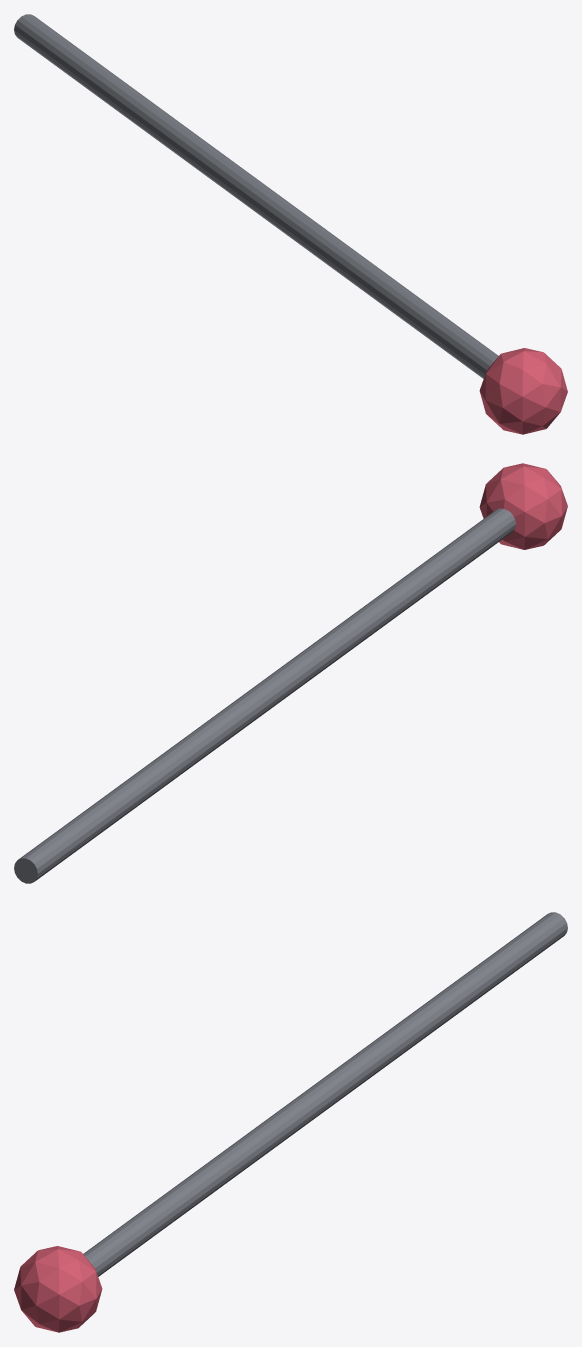
Rendered from antenna_v01.glb.
3 views of the same model, one above another, from view 1: azimuth 30°, elevation 25°; view 2: azimuth 150°, elevation 25°; view 3: azimuth 330°, elevation 25° (orthographic).
Parts seen in each view (by area): view 1: cylinder_0, sphere_1; view 2: cylinder_0, sphere_1; view 3: cylinder_0, sphere_1.
Boxes of the visible parts, <box> form: cylinder_0: <box>14,14,498,378</box>; sphere_1: <box>479,348,567,434</box>; cylinder_0: <box>14,508,516,883</box>; sphere_1: <box>479,463,567,549</box>; cylinder_0: <box>83,912,567,1276</box>; sphere_1: <box>14,1246,102,1332</box>.
Size of the model in its own units: 0.32 by 0.32 by 3.76.
